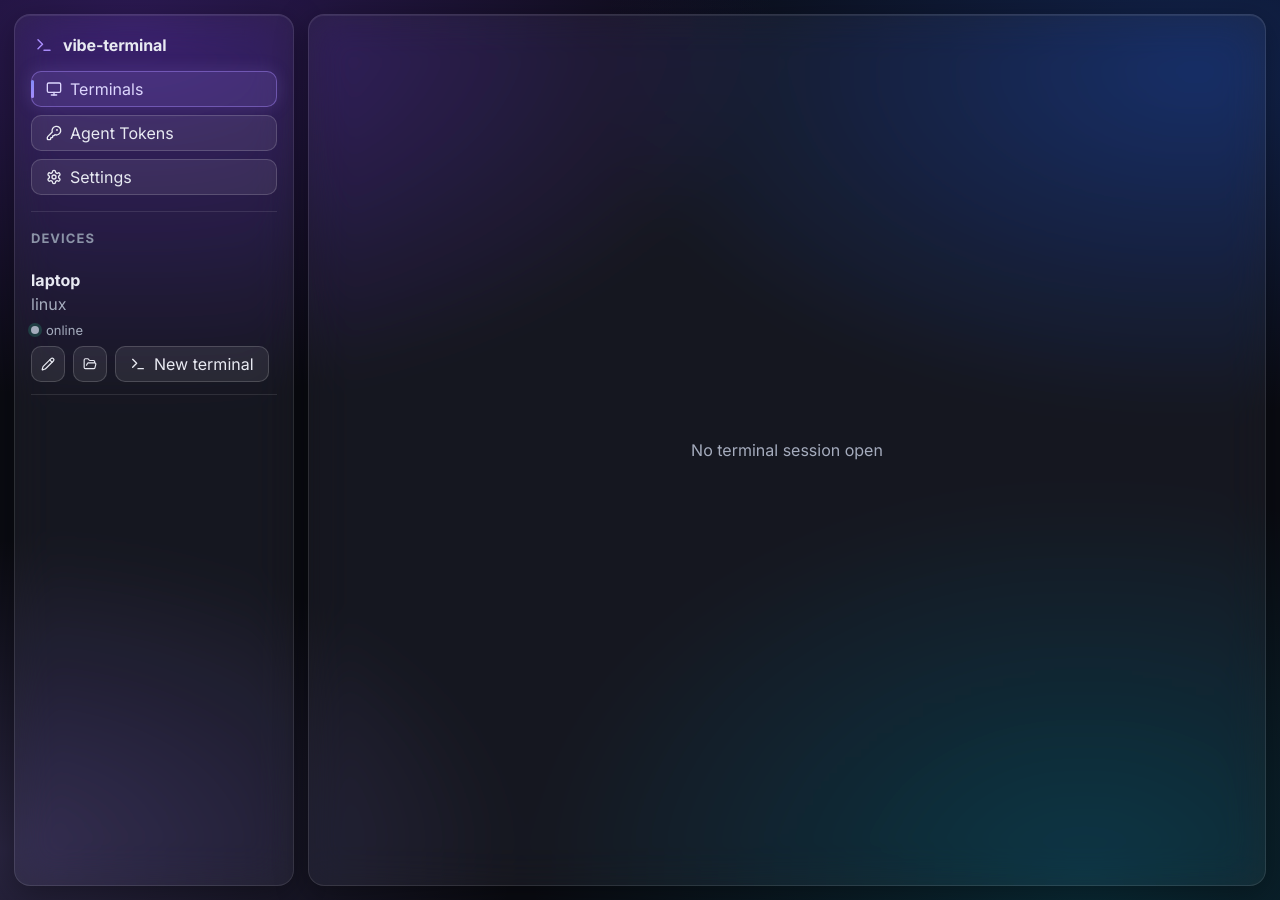
Test case: AppView › opens multiple terminal tabs for an online device
Click the button "New terminal". click: (192, 364)
box: [115,346,269,382]
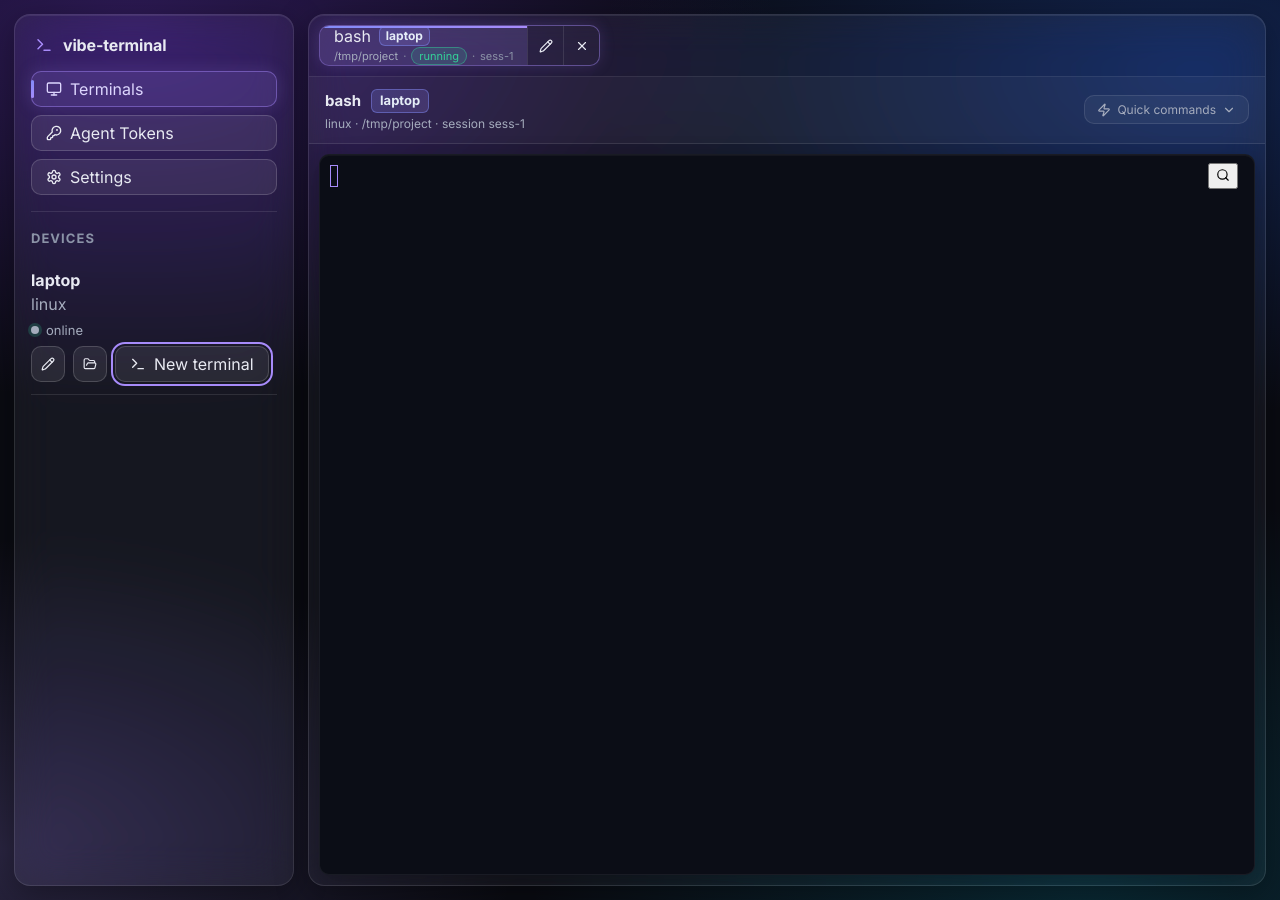
Click the button "New terminal". click: (192, 364)
box: [115,346,269,382]
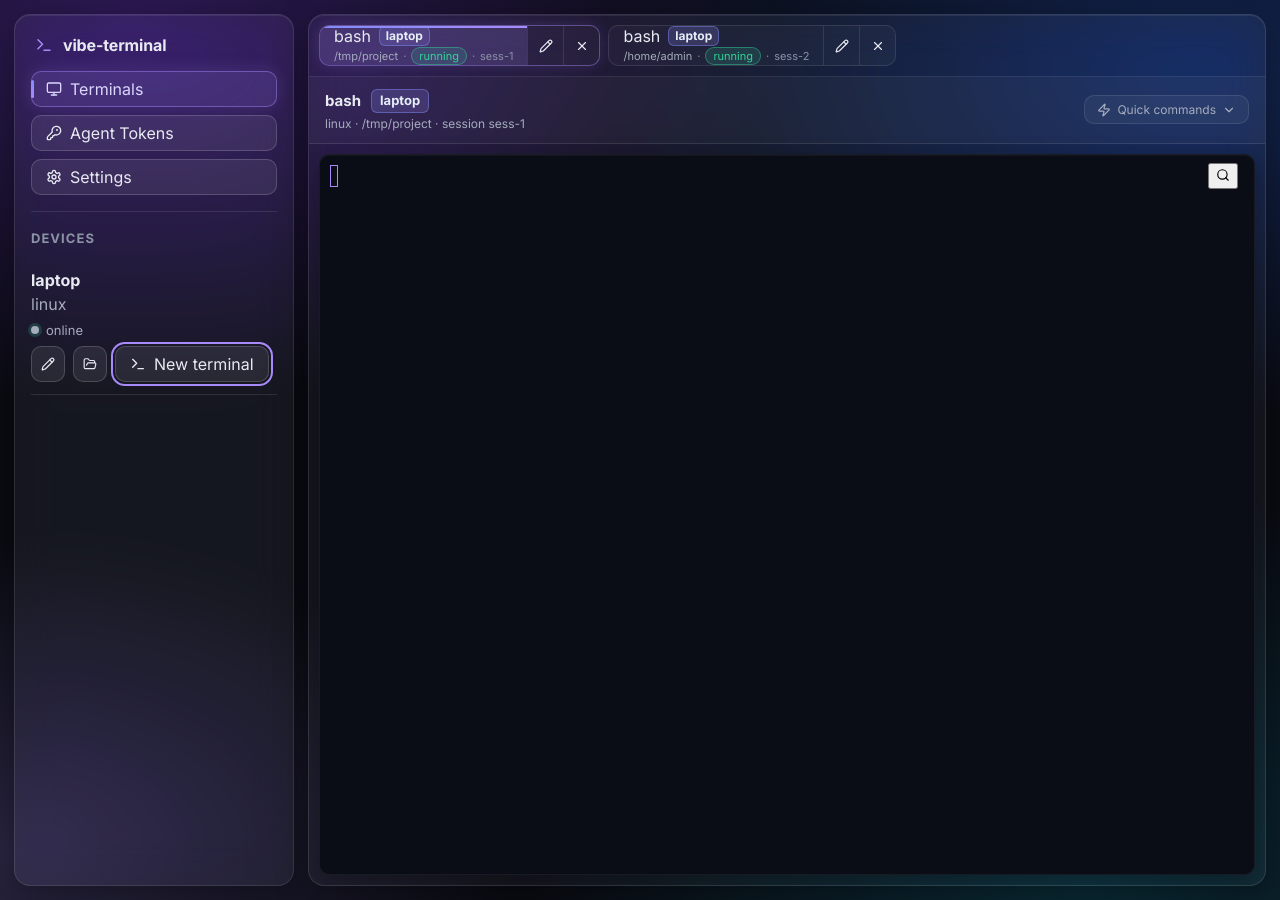
Result: the tab "bash laptop /tmp/project · running · sess-1" is shown at [320,26,527,65]
Result: the tab "bash laptop /home/admin · running · sess-2" is shown at [609,26,823,65]
